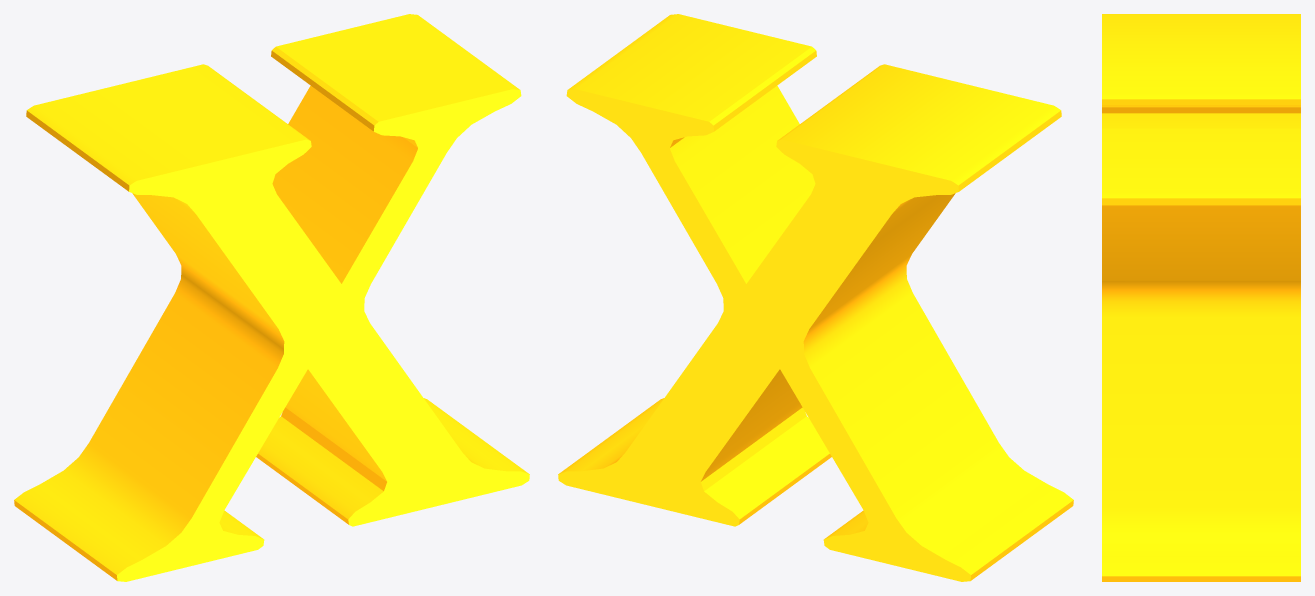
The model's file is X_Soul_Yellow.glb.
3 renders of one model, left to right at view 1: azimuth 30°, elevation 25°; view 2: azimuth 150°, elevation 25°; view 3: azimuth 270°, elevation 25°, orthographic. The views are drawn at different scales.
Parts seen in each view (by area): view 1: x_Soul_Yellow; view 2: x_Soul_Yellow; view 3: x_Soul_Yellow.
Boxes of the visible parts, x1,y1,x2,y2 form: x_Soul_Yellow: [14, 14, 529, 581]; x_Soul_Yellow: [558, 14, 1073, 581]; x_Soul_Yellow: [1102, 14, 1300, 581].
Size of what is drawn, in the model's own units: 0.1044 by 0.0963 by 0.045.
Materials: 2 (2 with a texture image).
